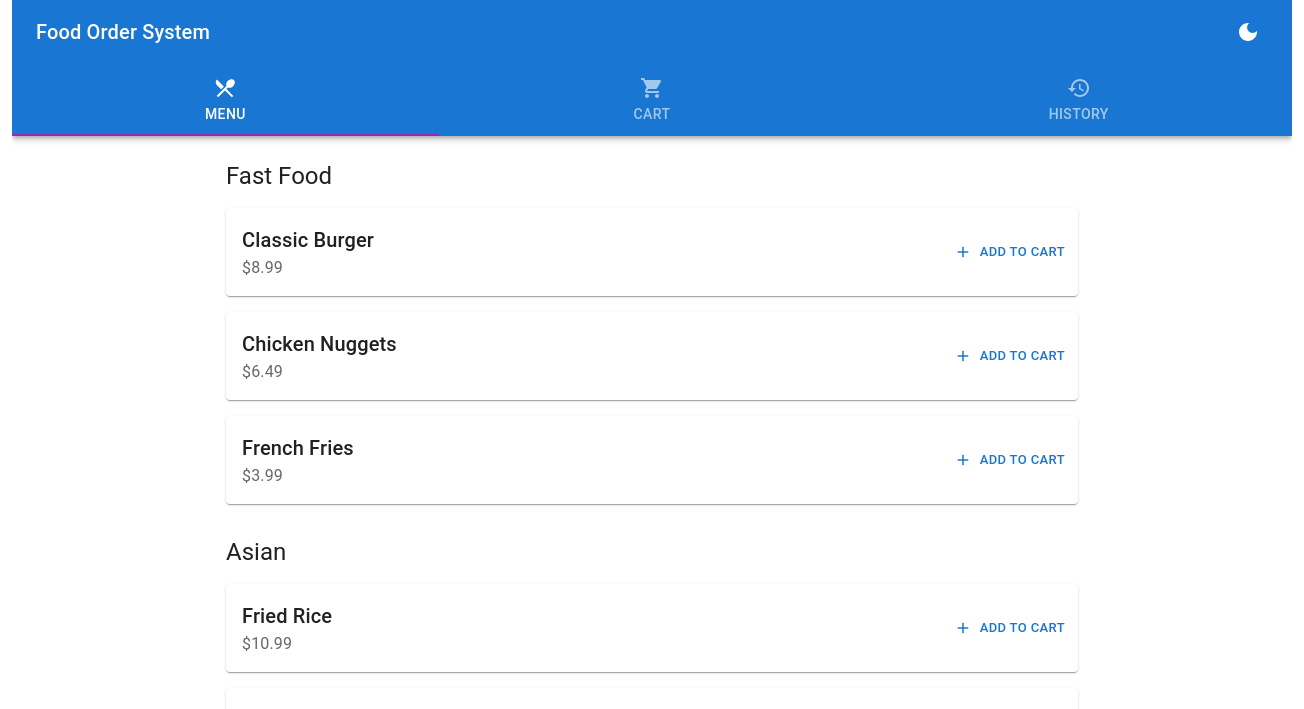
App › should switch to History tab when clicked
The image size is (1304, 709).
Click the tab "History" at [1079, 100], box [865,64,1292,136]
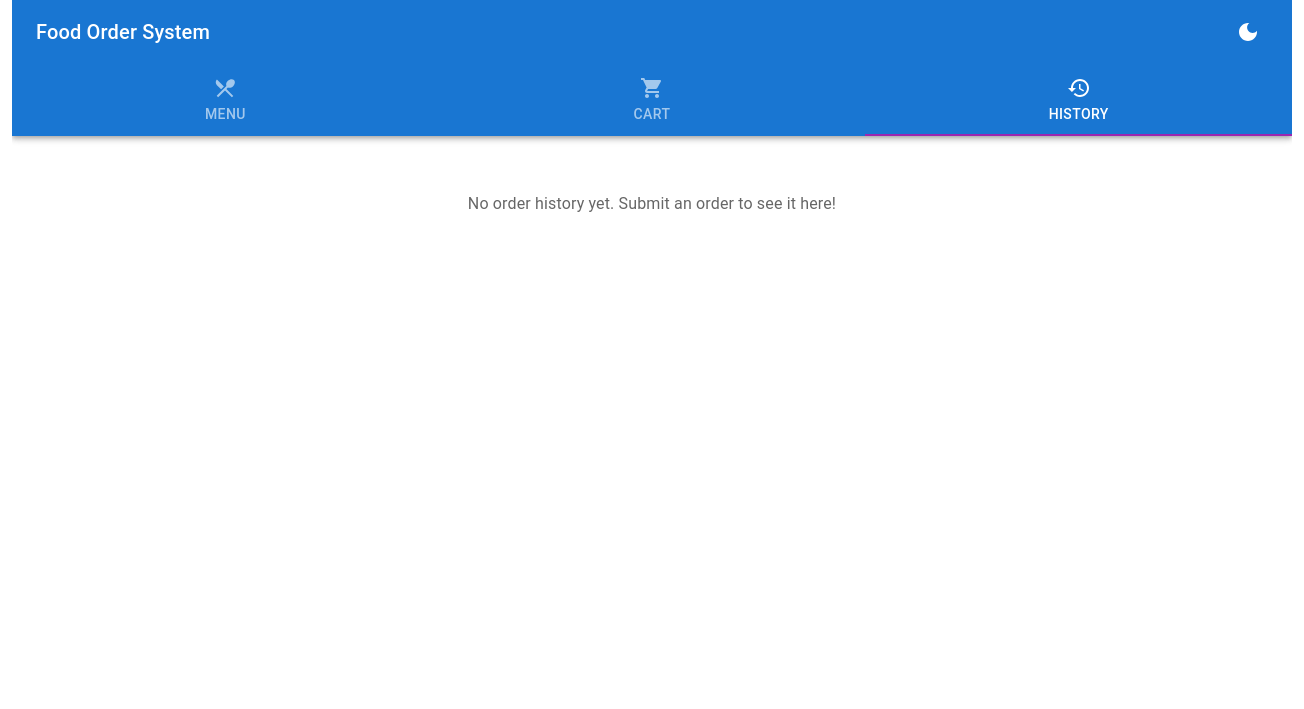
expect the text "No order history yet. Submit an order to see it here!" is shown: met, box [468,194,836,213]
